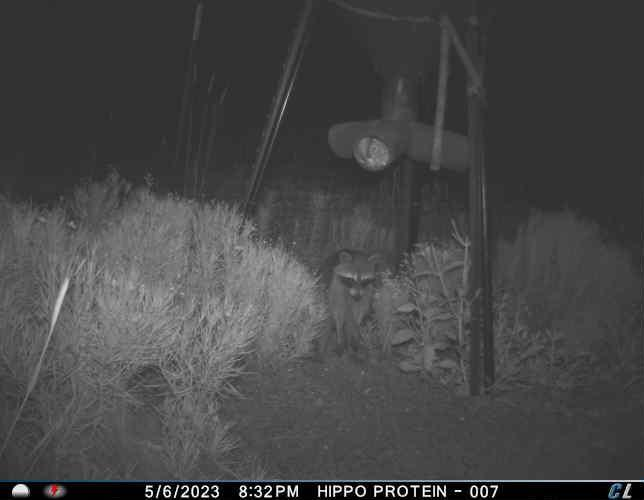Raccoon: (314, 244, 388, 355)
